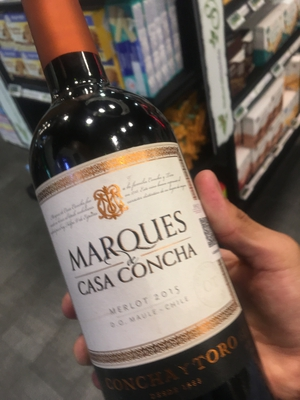marques de casa concha merlot: (28, 13, 247, 390)
